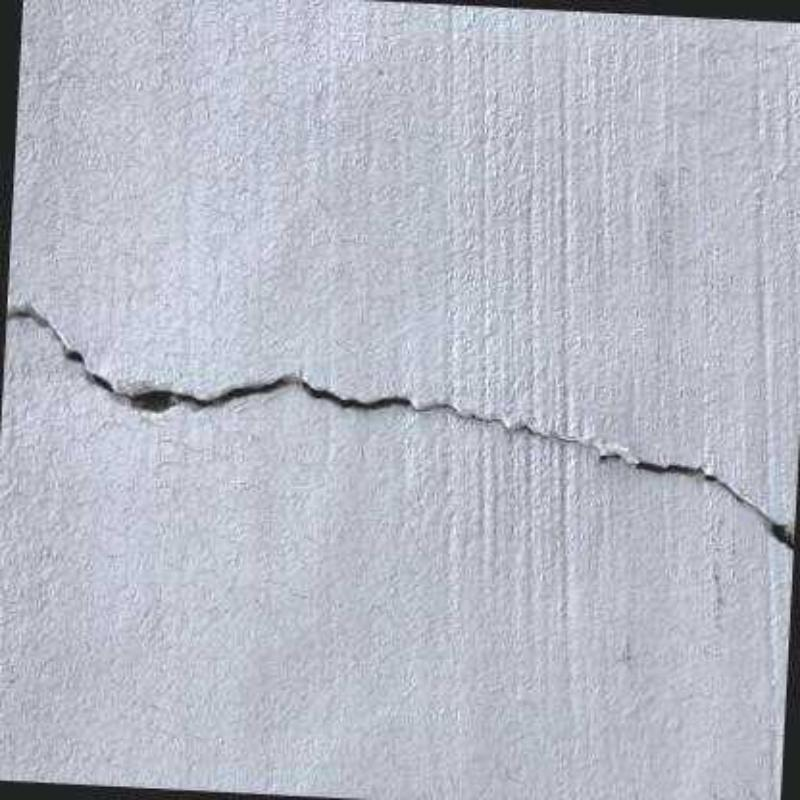crack: (4, 305, 794, 550)
